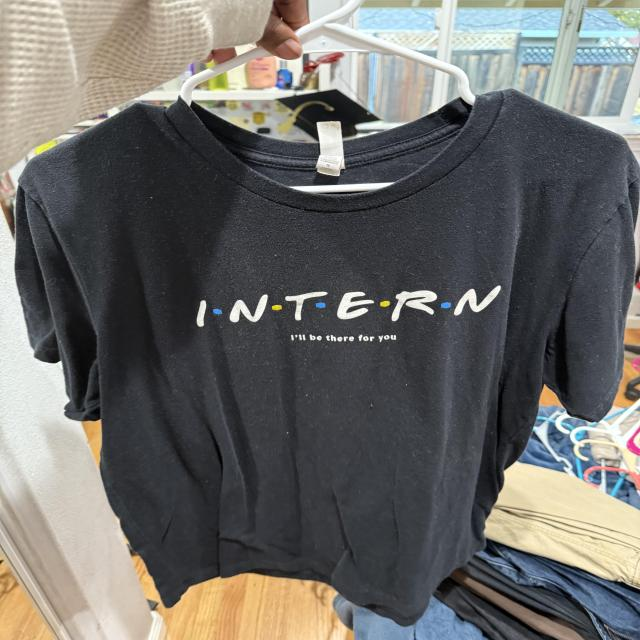back_tag: (314, 120, 354, 177)
